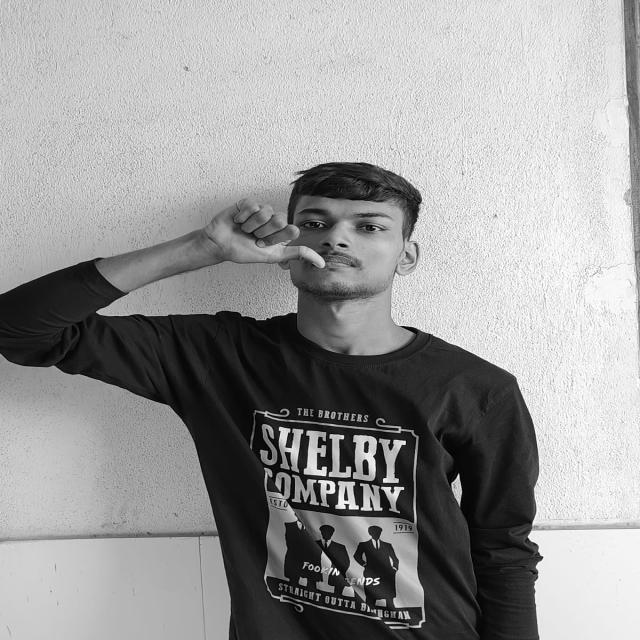Drink: (204, 202, 326, 272)
